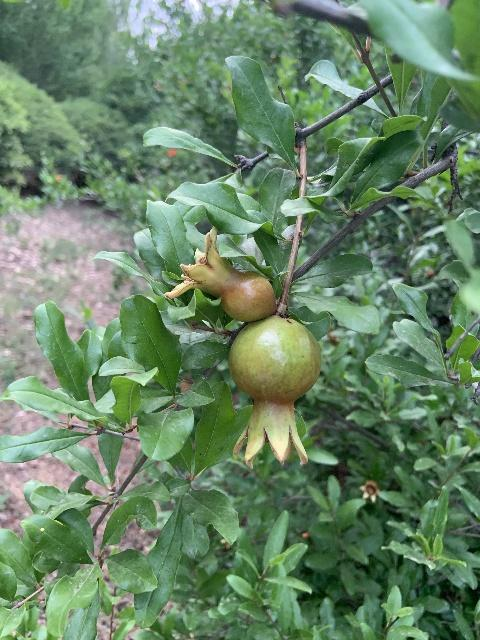early-fruit: (164, 227, 275, 321)
mid-growth: (227, 317, 321, 468)
